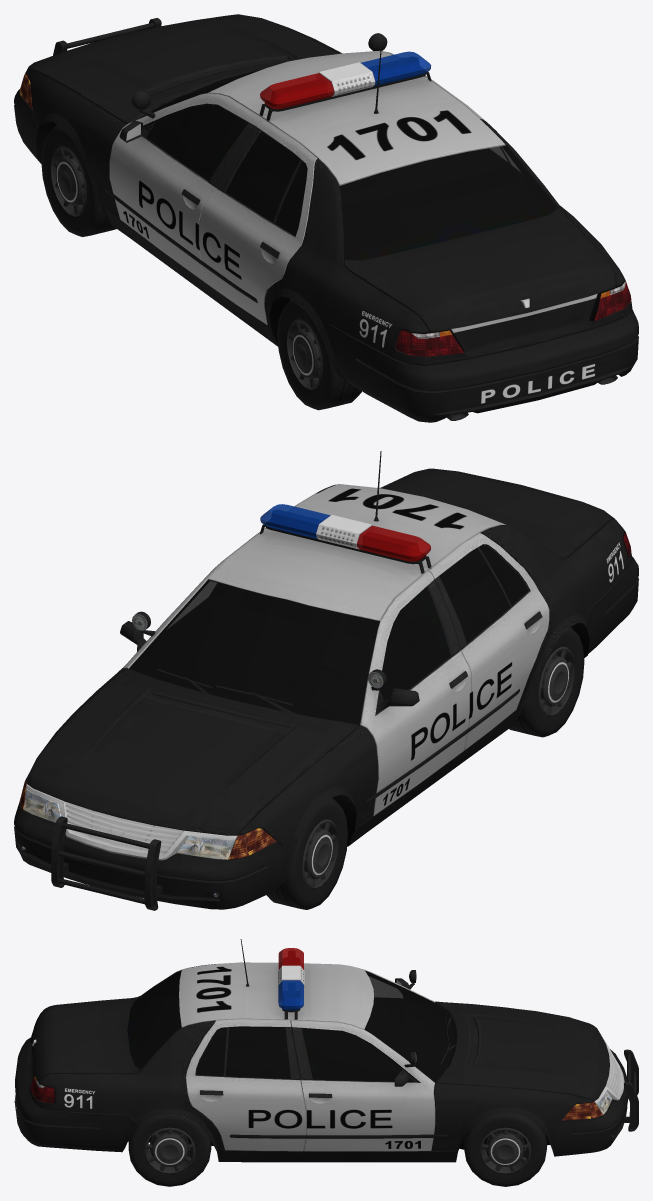
The model's file is police_sedan.glb.
3 views of the same model, one above another, from view 1: azimuth 30°, elevation 25°; view 2: azimuth 150°, elevation 25°; view 3: azimuth 270°, elevation 25° (orthographic). The views are drawn at different scales.
Visible parts, largest first — view 1: police_sedan, wheel_0, wheel_3; view 2: police_sedan, wheel_3, wheel_0; view 3: police_sedan, wheel_1, wheel_2.
Boxes of the visible parts, bbox=[...] form: police_sedan: bbox=[14, 14, 638, 422]; wheel_0: bbox=[277, 300, 361, 410]; wheel_3: bbox=[41, 125, 116, 236]; police_sedan: bbox=[14, 451, 638, 910]; wheel_3: bbox=[266, 798, 347, 909]; wheel_0: bbox=[509, 627, 584, 737]; police_sedan: bbox=[14, 939, 638, 1171]; wheel_1: bbox=[464, 1113, 546, 1186]; wheel_2: bbox=[128, 1115, 211, 1186].
Size of the model in its own units: 2.09 by 1.96 by 5.41.
5 materials, 5 textured.
